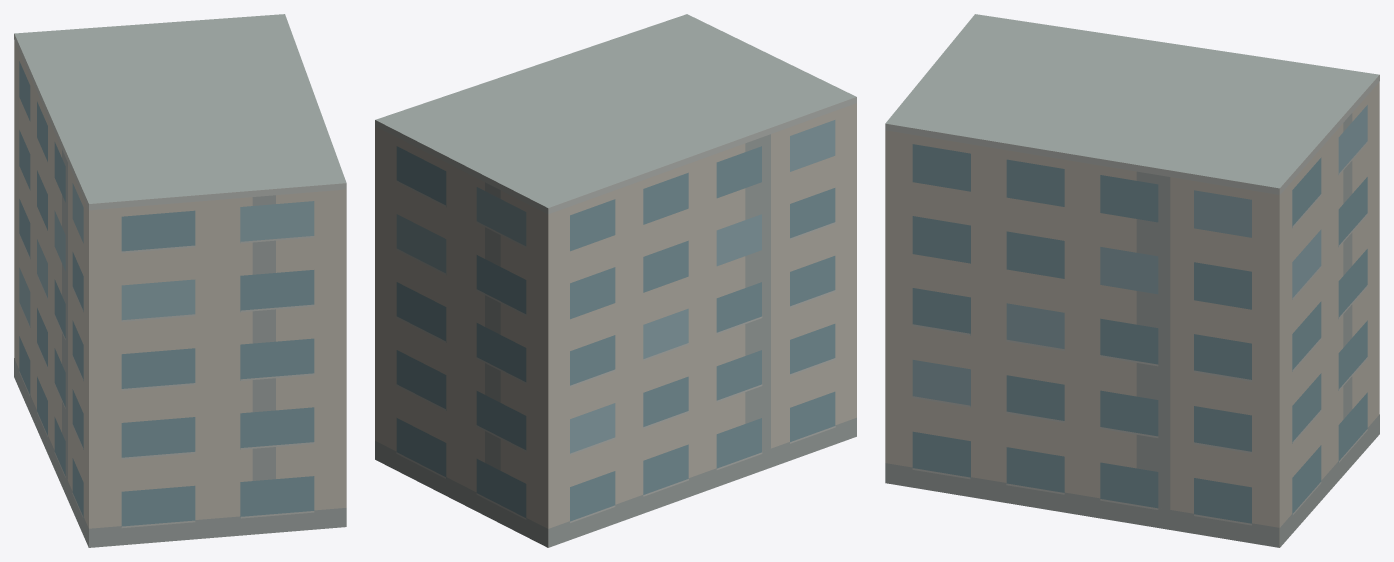
Rendered from survey-upis-33014828.glb.
3 renders of one model, left to right at view 1: azimuth 30°, elevation 25°; view 2: azimuth 150°, elevation 25°; view 3: azimuth 270°, elevation 25°, orthographic. The views are drawn at different scales.
Visible parts, largest first — view 1: survey-upis-33014828.tmp; view 2: survey-upis-33014828.tmp; view 3: survey-upis-33014828.tmp.
Part boxes in pixels (x1,y1,x2,y2): survey-upis-33014828.tmp: (14, 14, 346, 547); survey-upis-33014828.tmp: (375, 14, 856, 547); survey-upis-33014828.tmp: (885, 14, 1379, 547).
Size of the model in its own units: 13.74 by 13.2 by 16.47.
